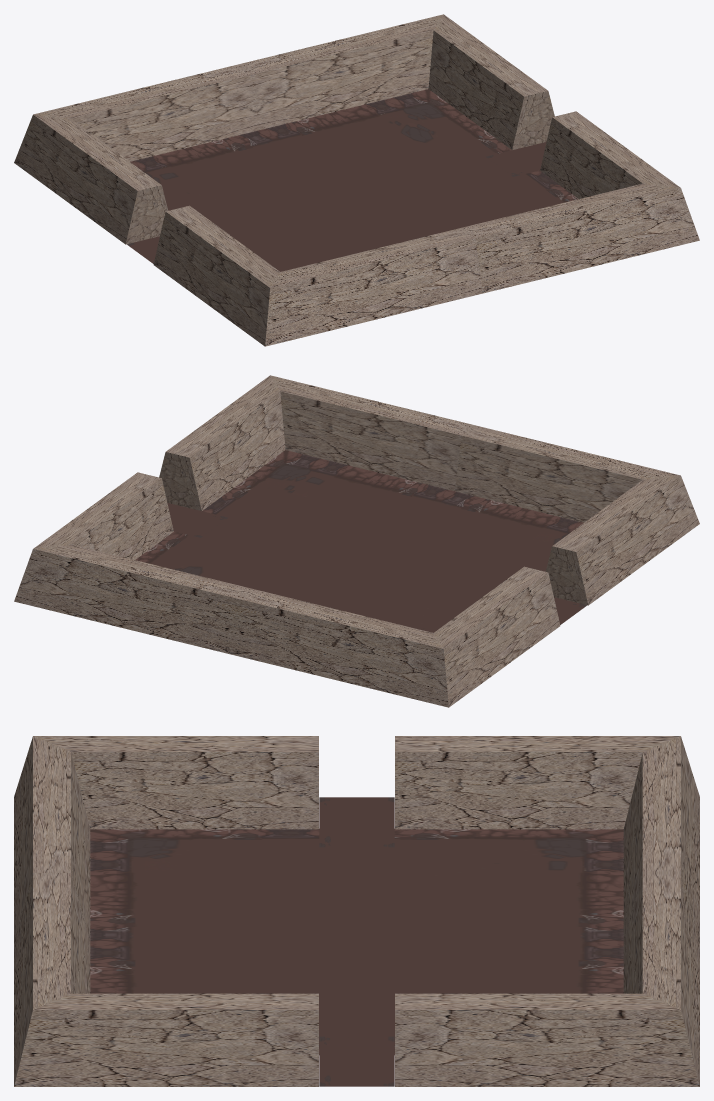
Rendered from sala_10.obj.
The picture shows the model from 3 angles, top to bottom: view 1: azimuth 30°, elevation 25°; view 2: azimuth 150°, elevation 25°; view 3: azimuth 270°, elevation 25°; orthographic projection. The views are drawn at different scales.
Visible parts, largest first — view 1: Ground_Plane.001, Wall.003_Cube.010, Wall.001_Cube.012, Wall.004_Cube.015, Wall.006_Cube.016, Wall.007_Cube.017, Wall.005_Cube.002, Wall.000_Cube.011, Wall.002_Cube.014, Plane.003_Plane.005; view 2: Ground_Plane.001, Wall.004_Cube.015, Wall.006_Cube.016, Wall.003_Cube.010, Wall.001_Cube.012, Wall.000_Cube.011, Wall.002_Cube.014, Wall.007_Cube.017, Wall.005_Cube.002, Plane.003_Plane.005; view 3: Ground_Plane.001, Wall.005_Cube.002, Wall.002_Cube.014, Wall.000_Cube.011, Wall.007_Cube.017, Wall.001_Cube.012, Wall.006_Cube.016, Wall.003_Cube.010, Wall.004_Cube.015, Plane.000_Plane.006, Plane.003_Plane.005.
Boxes of the visible parts, x1,y1,x2,y2 form: Ground_Plane.001: (130, 89, 578, 271); Wall.003_Cube.010: (462, 183, 699, 293); Wall.001_Cube.012: (265, 228, 482, 346); Wall.004_Cube.015: (239, 14, 443, 129); Wall.006_Cube.016: (33, 64, 259, 161); Wall.007_Cube.017: (14, 114, 168, 244); Wall.005_Cube.002: (428, 14, 554, 150); Wall.000_Cube.011: (153, 205, 279, 346); Wall.002_Cube.014: (540, 111, 680, 198); Plane.003_Plane.005: (486, 142, 546, 176); Ground_Plane.001: (135, 450, 583, 632); Wall.004_Cube.015: (14, 544, 251, 654); Wall.006_Cube.016: (231, 589, 448, 707); Wall.003_Cube.010: (270, 375, 474, 490); Wall.001_Cube.012: (454, 425, 680, 522); Wall.000_Cube.011: (545, 475, 699, 605); Wall.002_Cube.014: (159, 375, 285, 510); Wall.007_Cube.017: (434, 566, 560, 707); Wall.005_Cube.002: (33, 472, 173, 559); Plane.003_Plane.005: (167, 503, 227, 537); Ground_Plane.001: (90, 829, 623, 1054); Wall.005_Cube.002: (395, 993, 699, 1086); Wall.002_Cube.014: (14, 993, 318, 1086); Wall.000_Cube.011: (33, 736, 318, 829); Wall.007_Cube.017: (395, 736, 680, 829); Wall.001_Cube.012: (14, 736, 90, 941); Wall.006_Cube.016: (623, 736, 699, 941); Wall.003_Cube.010: (14, 873, 90, 1085); Wall.004_Cube.015: (623, 873, 699, 1085); Plane.000_Plane.006: (319, 797, 394, 847); Plane.003_Plane.005: (319, 1036, 394, 1086).
Bounding box in the file's own units: 18 × 2 × 18.
